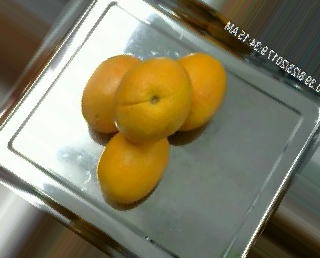Orange: (111, 56, 193, 143), (81, 54, 159, 135), (97, 125, 171, 205), (169, 51, 227, 132)
